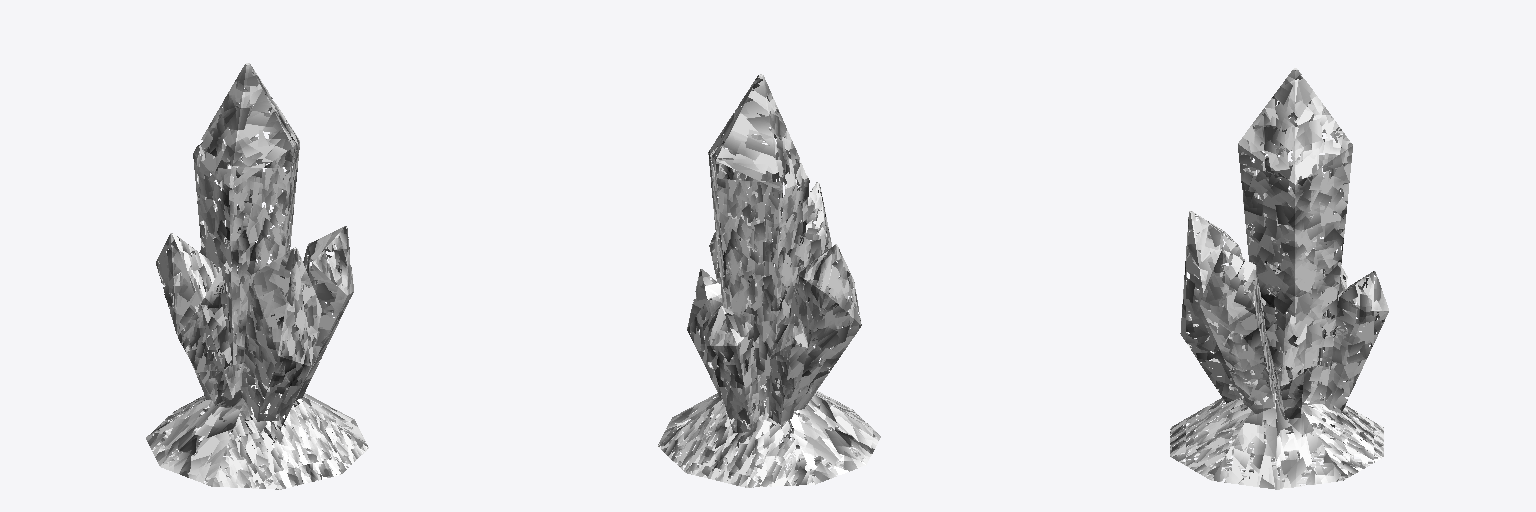
3 renders of one model, left to right at view 1: azimuth 30°, elevation 25°; view 2: azimuth 150°, elevation 25°; view 3: azimuth 270°, elevation 25°, orthographic.
Parts seen in each view (by area): view 1: Cone001, Cone008, Cone002, Cone004, Cone006; view 2: Cone001, Cone008, Cone004, Cone003, Cone007, Cone005, Cone002; view 3: Cone001, Cone008, Cone006, Cone002, Cone003, Cone005.
Boxes of the visible parts, <box> form: Cone001: <box>193,63,299,432</box>; Cone008: <box>146,382,368,489</box>; Cone002: <box>239,247,321,449</box>; Cone004: <box>156,233,239,405</box>; Cone006: <box>277,226,353,406</box>; Cone001: <box>708,74,809,445</box>; Cone008: <box>658,373,880,487</box>; Cone004: <box>780,244,861,414</box>; Cone003: <box>703,306,759,447</box>; Cone007: <box>769,314,807,429</box>; Cone005: <box>687,269,729,397</box>; Cone002: <box>764,182,831,433</box>; Cone001: <box>1238,68,1352,436</box>; Cone008: <box>1170,368,1383,489</box>; Cone006: <box>1199,250,1274,413</box>; Cone002: <box>1180,211,1267,438</box>; Cone003: <box>1312,271,1388,431</box>; Cone005: <box>1265,312,1306,427</box>.
Size of the model in its own units: 8.45 by 15.46 by 8.24.
1 materials, 1 textured.